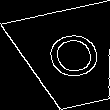O_S: (37, 28, 103, 88)
